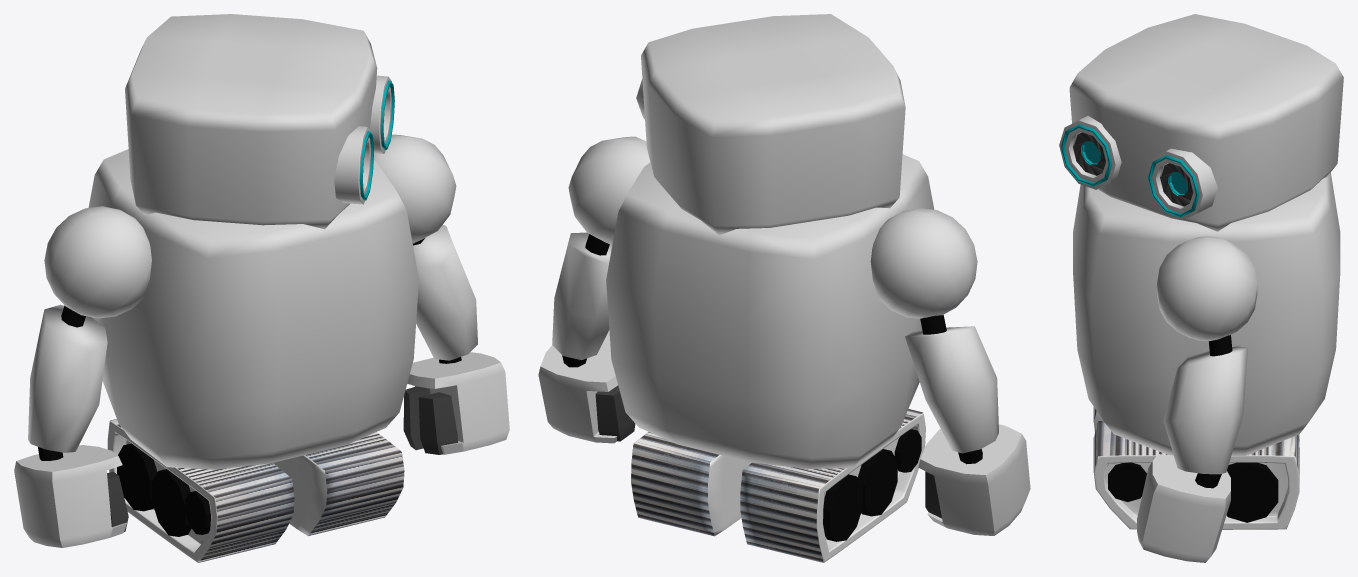
The model's file is Idle Animation.fbx.
3 views of the same model, side by side, from view 1: azimuth 30°, elevation 25°; view 2: azimuth 150°, elevation 25°; view 3: azimuth 270°, elevation 25° (orthographic). The views are drawn at different scales.
Parts seen in each view (by area): view 1: polySurface36, polySurface38, polySurface40, polySurface67, polySurface39, polySurface55, polySurface63, polySurface54, polySurface57, polySurface61, polySurface50, polySurface59 (+6 smaller); view 2: polySurface36, polySurface38, polySurface40, polySurface67, polySurface39, polySurface63, polySurface55, polySurface54, polySurface61, polySurface57, polySurface42, polySurface44 (+2 smaller); view 3: polySurface36, polySurface38, polySurface61, polySurface54, polySurface57, polySurface39, polySurface41, polySurface47, polySurface50, polySurface45, polySurface53, polySurface52 (+5 smaller).
Part boxes in pixels (x1,y1,x2,y2): polySurface36: (88,149,418,469); polySurface38: (125,14,377,229); polySurface40: (107,419,294,562); polySurface67: (44,206,151,318); polySurface39: (273,432,404,535); polySurface55: (28,304,107,452); polySurface63: (14,445,126,547); polySurface54: (413,225,477,360); polySurface57: (407,352,509,454); polySurface61: (373,134,456,243); polySurface50: (334,126,371,204); polySurface59: (418,392,457,454); polySurface36: (606,154,934,468); polySurface38: (641,14,905,235); polySurface40: (740,409,925,562); polySurface67: (870,208,977,318); polySurface39: (631,432,751,536); polySurface63: (918,424,1030,535); polySurface55: (905,326,998,453); polySurface54: (552,232,612,360); polySurface61: (568,136,650,244); polySurface57: (538,330,617,443); polySurface42: (823,474,862,541); polySurface44: (857,449,897,516); polySurface36: (1073,172,1340,456); polySurface38: (1069,14,1343,231); polySurface61: (1157,236,1257,341); polySurface54: (1163,346,1247,474); polySurface57: (1137,454,1230,562); polySurface39: (1093,421,1299,529); polySurface41: (1226,462,1278,522); polySurface47: (1146,148,1217,220); polySurface50: (1059,116,1121,189); polySurface45: (1108,462,1146,501); polySurface53: (1060,124,1112,186); polySurface52: (1148,155,1199,217).
Bounding box in the file's own units: 2.74 × 2.52 × 1.55.
